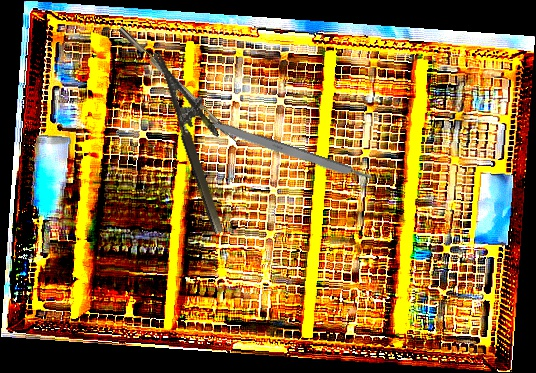Chopper: (117, 19, 250, 152)
Needle Holder: (153, 41, 248, 236)
Scalpel Handle: (207, 118, 374, 186)
